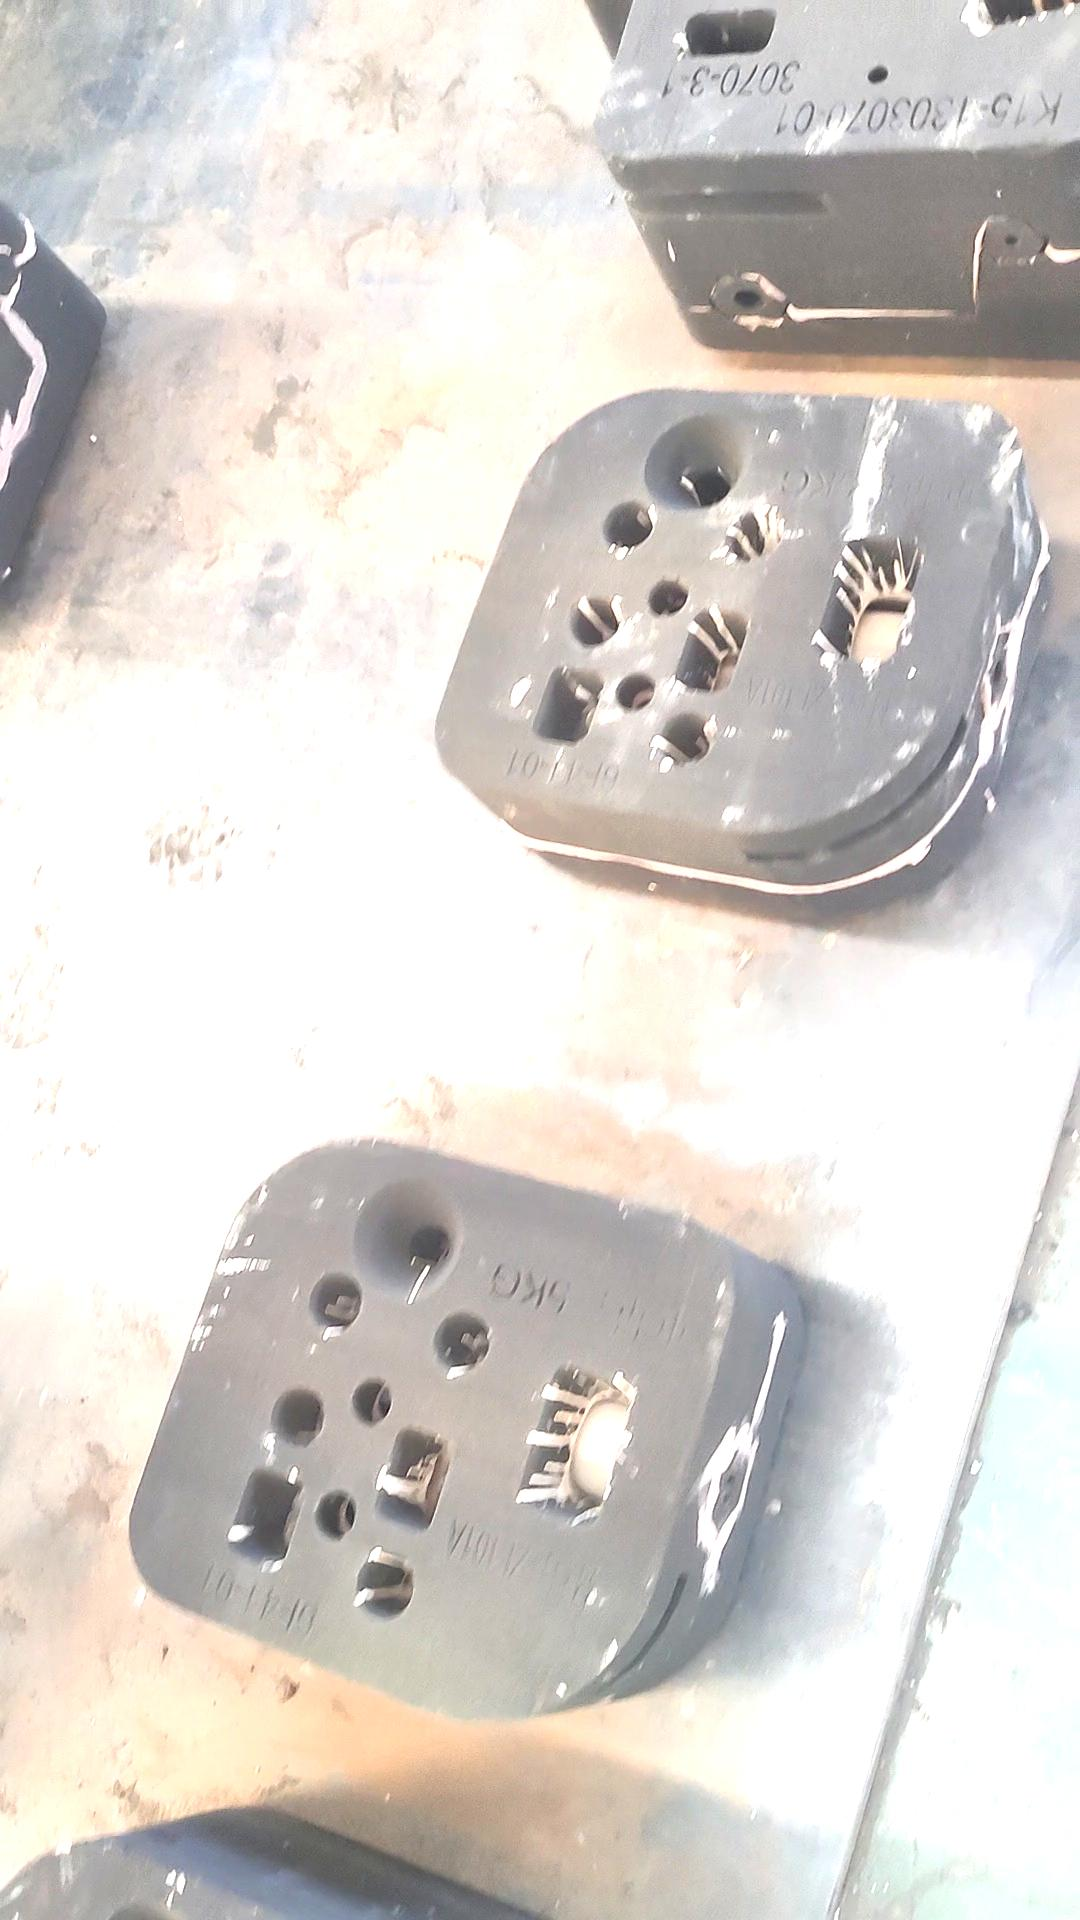pouring hole: (345, 1178, 465, 1302), (642, 409, 752, 516), (105, 1900, 179, 1920)
